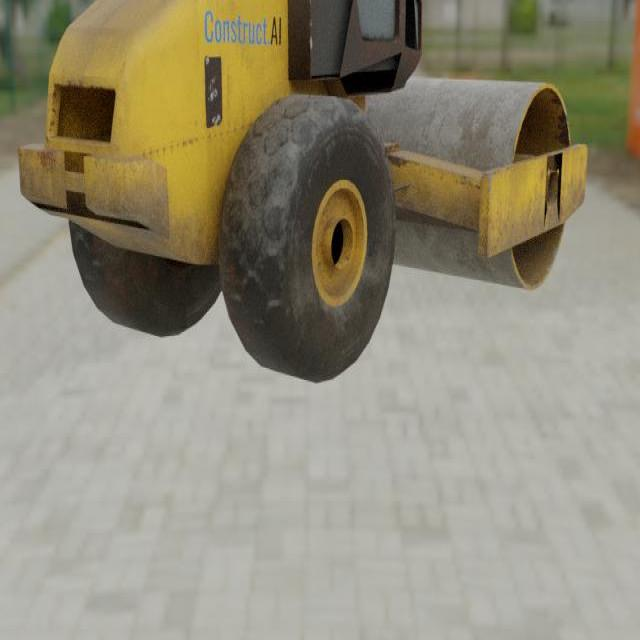Roller: (17, 0, 587, 385)
